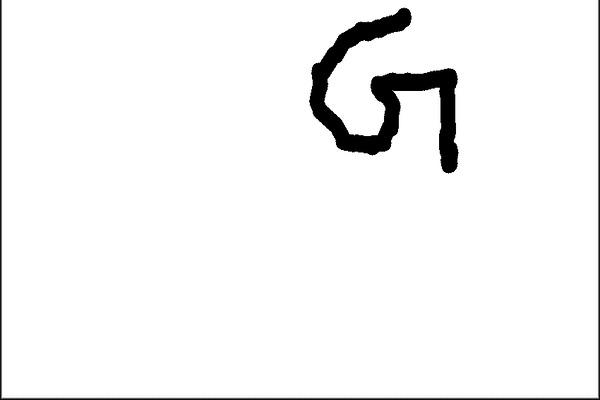G: (307, 5, 464, 178)
